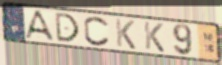9: (172, 23, 196, 57)
A: (23, 9, 57, 43)
C: (83, 15, 112, 48)
D: (54, 12, 81, 43)
K: (114, 17, 137, 51), (143, 20, 166, 54)
